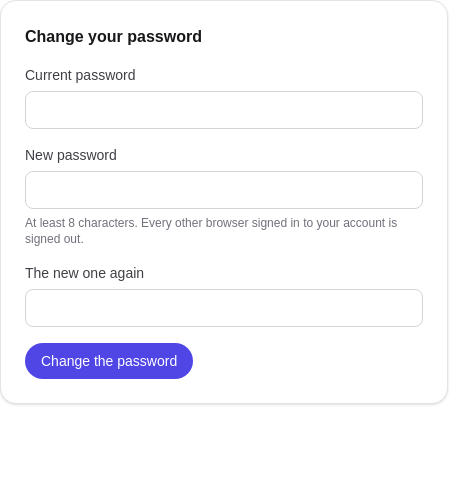
Scenario: changing the password (ACCT-004) › sends the current and the new one, says it's done and clears the fields
Type "my old password" into the password field labelled "Current password". click: [224, 110]
box: [25,91,423,129]
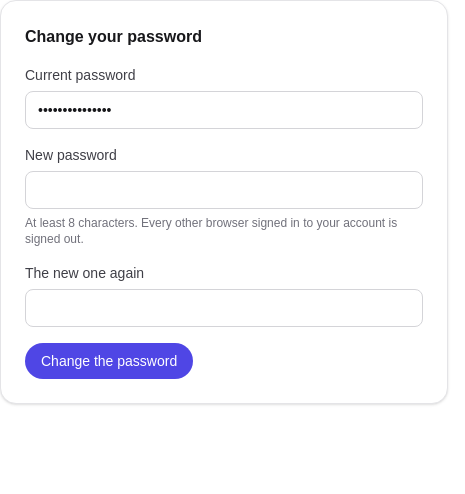
Type "my new long password" into the password field labelled "New password". click: [224, 190]
box: [25,171,423,209]
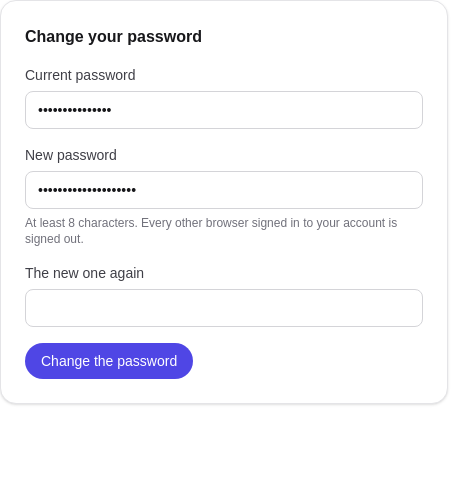
Type "my new long password" into the password field labelled "The new one again". click: [224, 308]
box: [25,289,423,327]
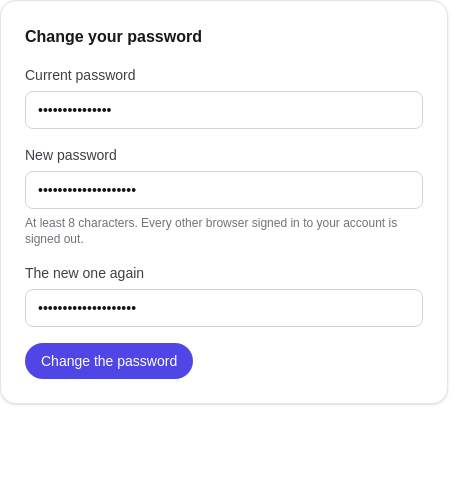
Click the button "Change the password". click: [109, 361]
box: [25,343,193,379]
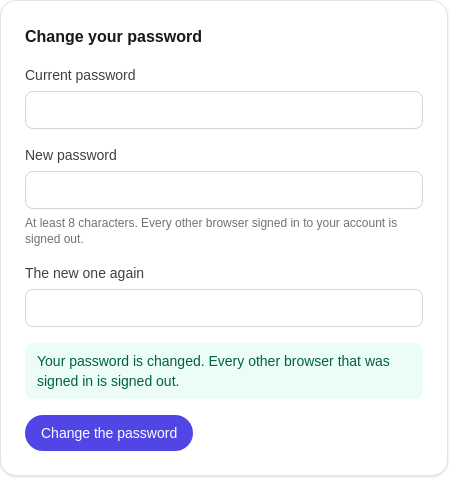
Expected: the message shows "Your password is changed.", [37,353,390,389]
Expected: the password field labelled "Current password" is empty, [25,91,423,129]
